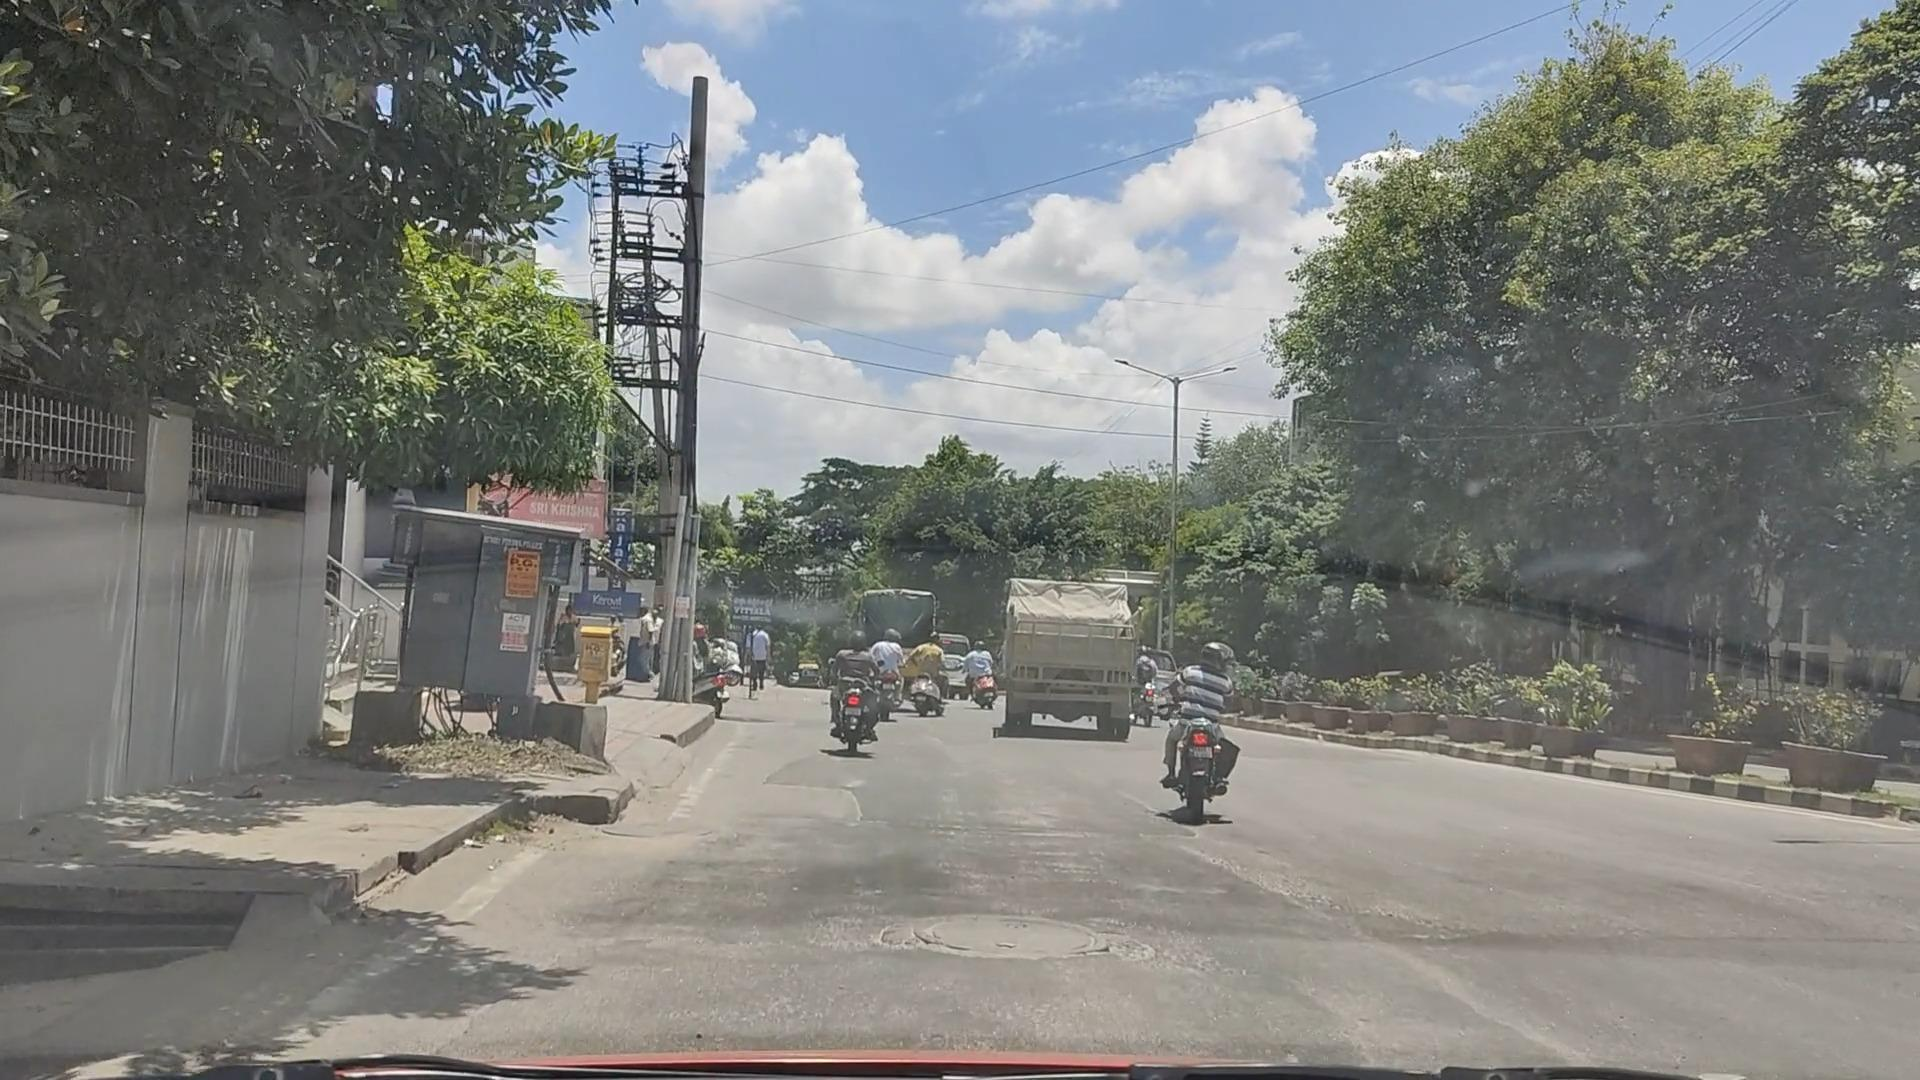HMV: (986, 574, 1151, 748), (849, 585, 948, 717)
RoadDamages: (865, 882, 1149, 986)
